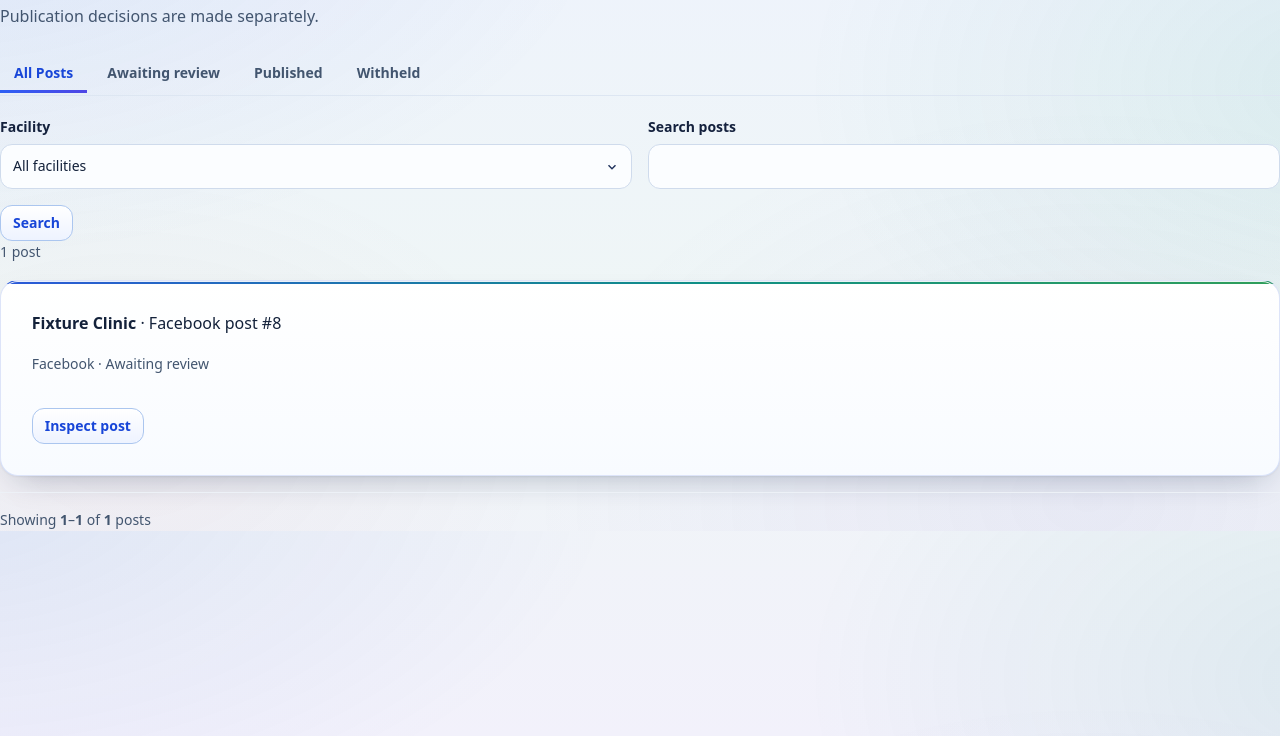
Test case: requires explicit attribution and comment selection before submitting a Facebook decision
The image size is (1280, 736).
Step 1. Click the button "Inspect post" → (88, 426), box [32, 408, 144, 444]
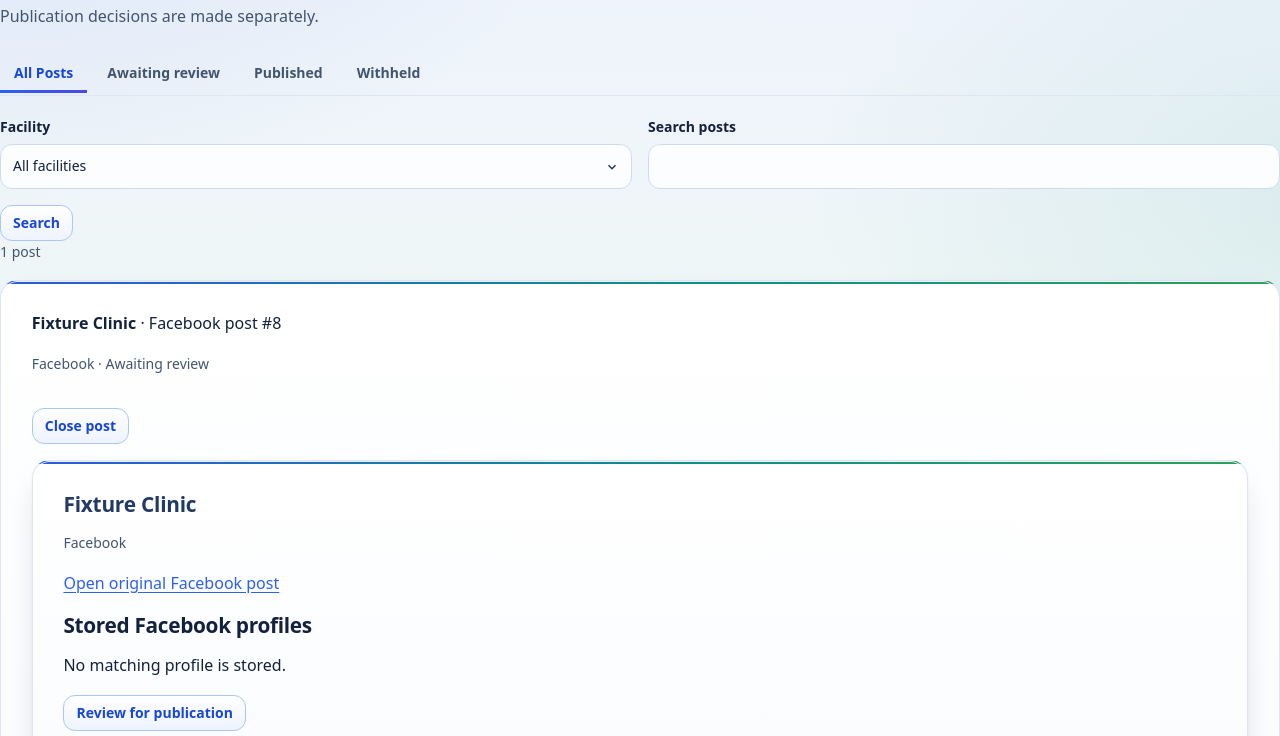
Step 2. Click the button "Review for publication" → (155, 713), box [63, 695, 246, 731]
(page scrolled)
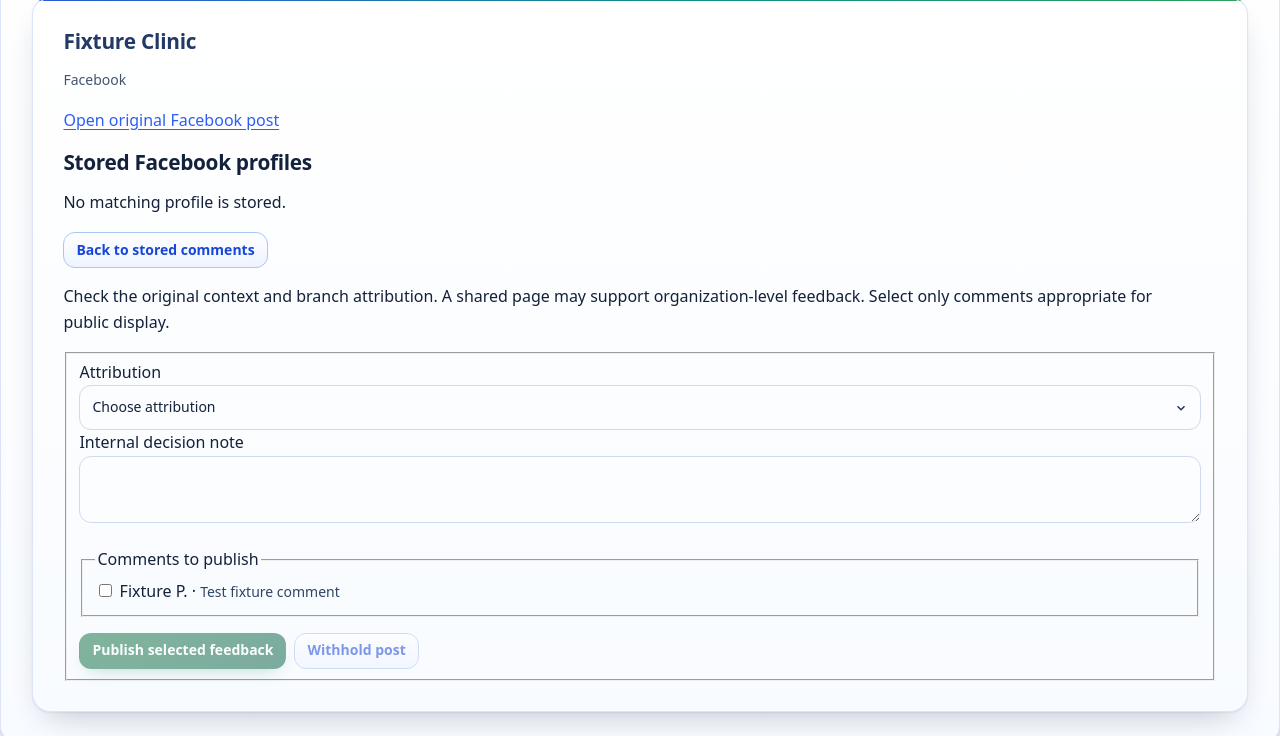
Expected: the button "Publish selected feedback" is disabled, [79, 633, 286, 669]
Step 3. Select "Specific to this facility" in the dropdown labelled "Attribution" → (640, 408), box [79, 386, 1200, 430]
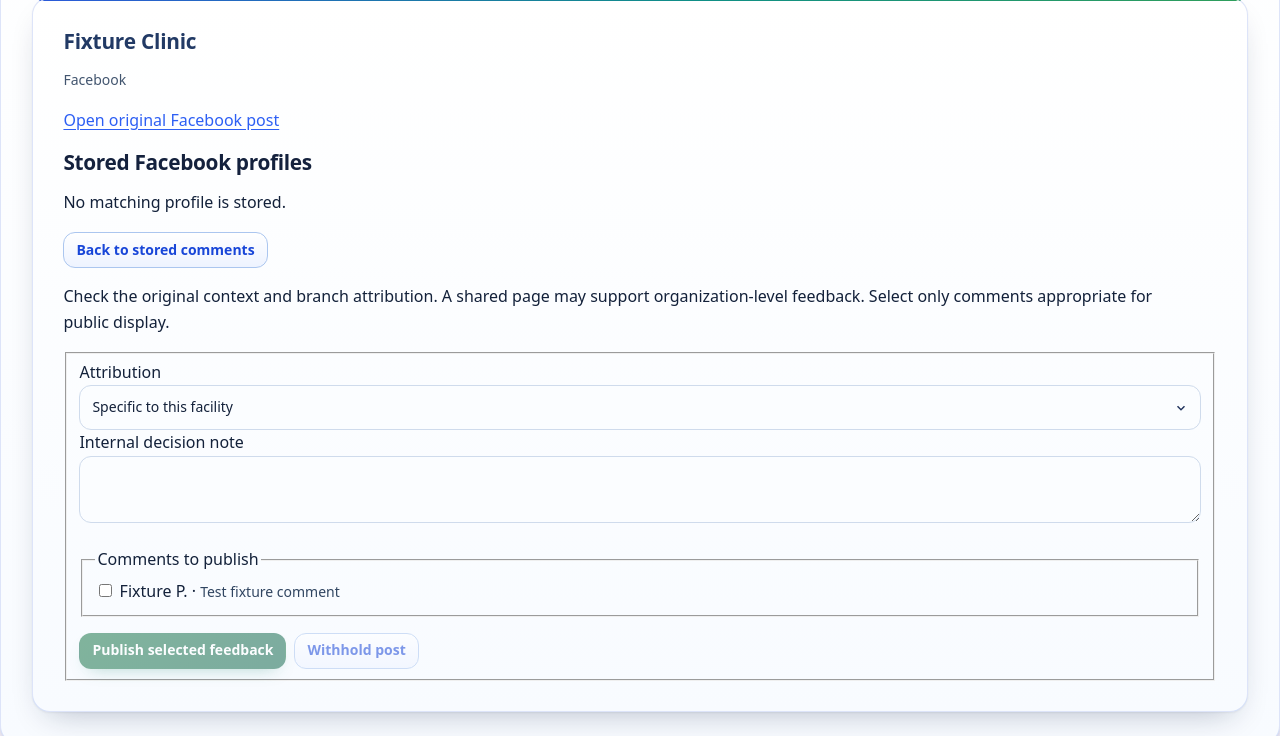
Step 4. Type "Fixture branch checked." into the text box labelled "Internal decision note" → (640, 490), box [79, 456, 1200, 523]
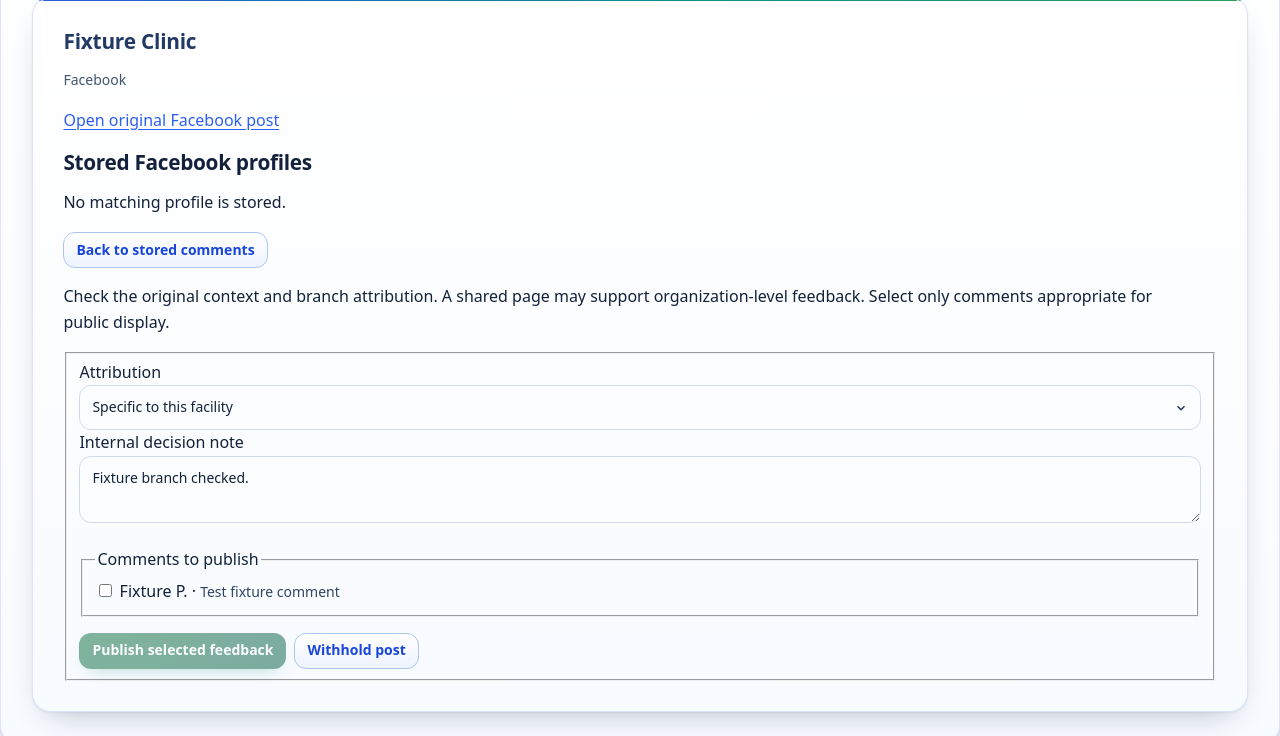
Expected: the button "Publish selected feedback" is disabled, [79, 633, 286, 669]
Step 5. Click the checkbox → (106, 590), box [99, 584, 112, 597]
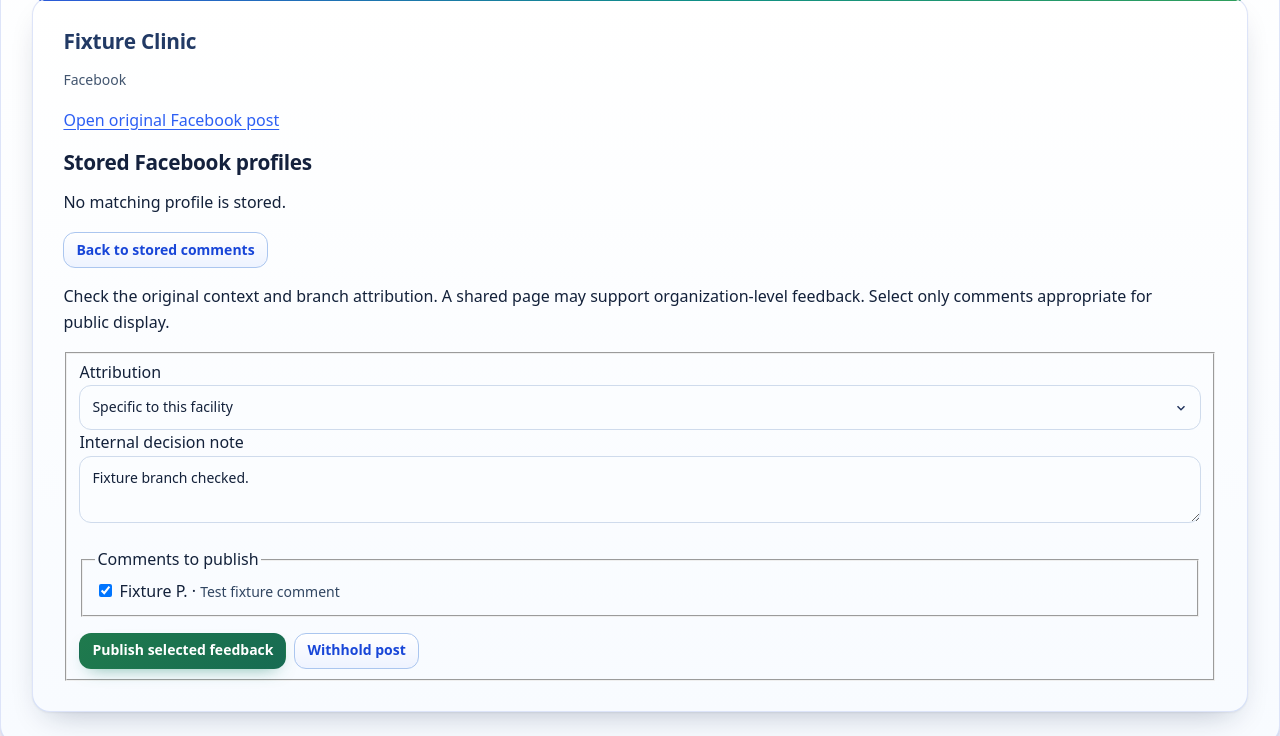
Step 6. Click the button "Publish selected feedback" → (183, 651), box [79, 633, 286, 669]
(page scrolled)
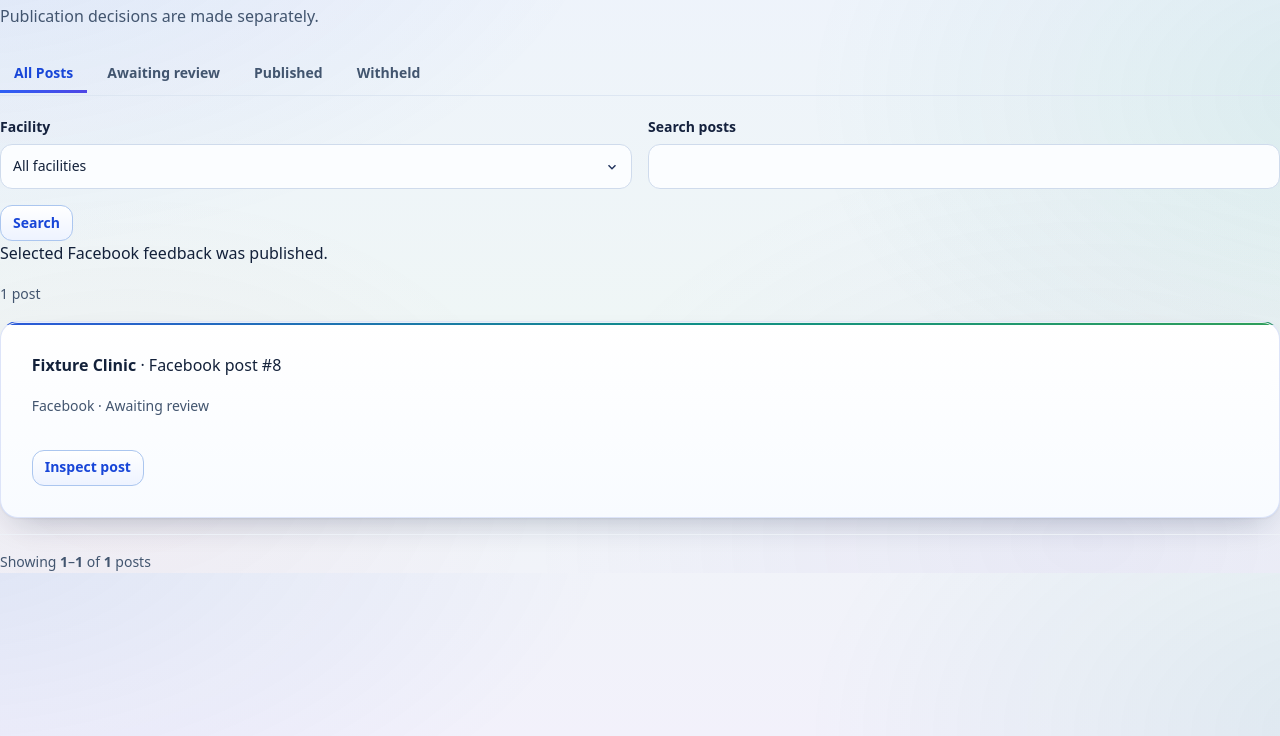
Expected: the text "Selected Facebook feedback was published." is shown, [0, 242, 328, 264]
